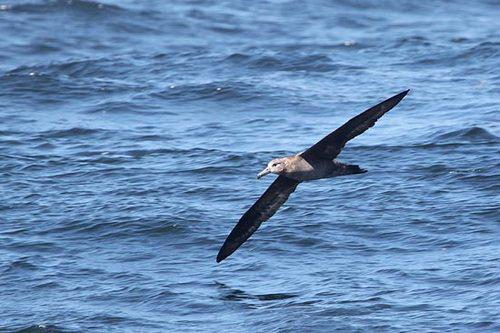001.Black_footed_Albatross: (218, 89, 412, 266)
